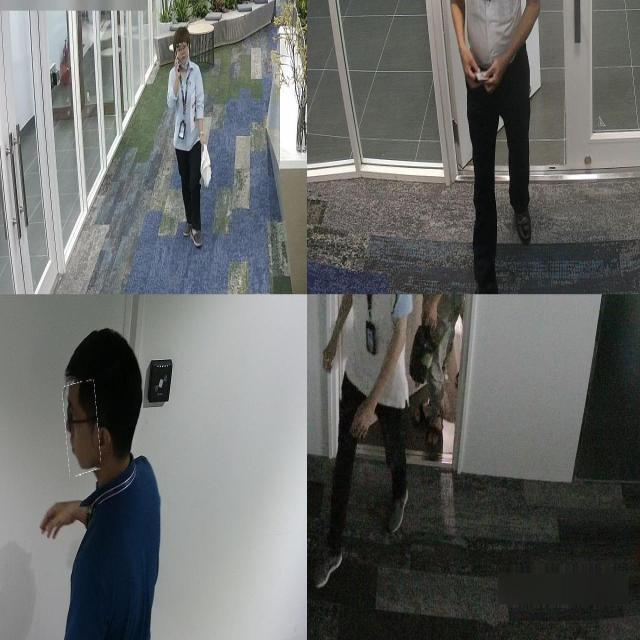hairnet: (177, 42, 190, 70)
